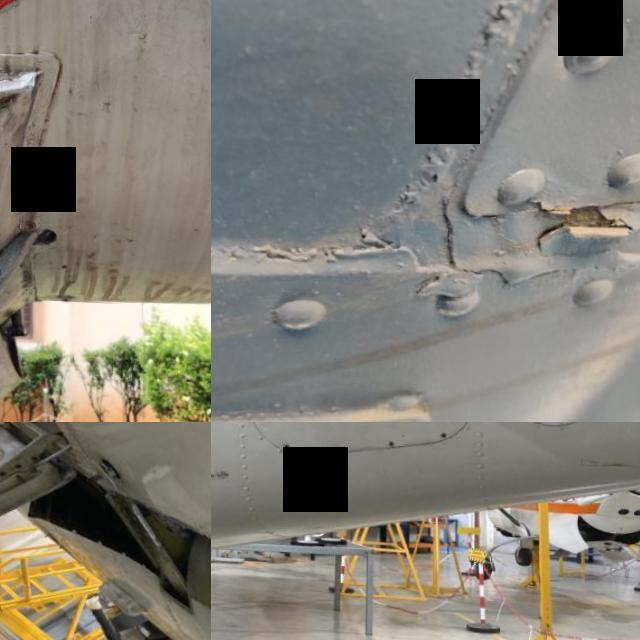Crack: (507, 179, 640, 273)
Dent: (0, 55, 53, 234)
Missing_Fastener: (389, 437, 396, 442), (443, 428, 449, 433), (285, 441, 292, 445)
